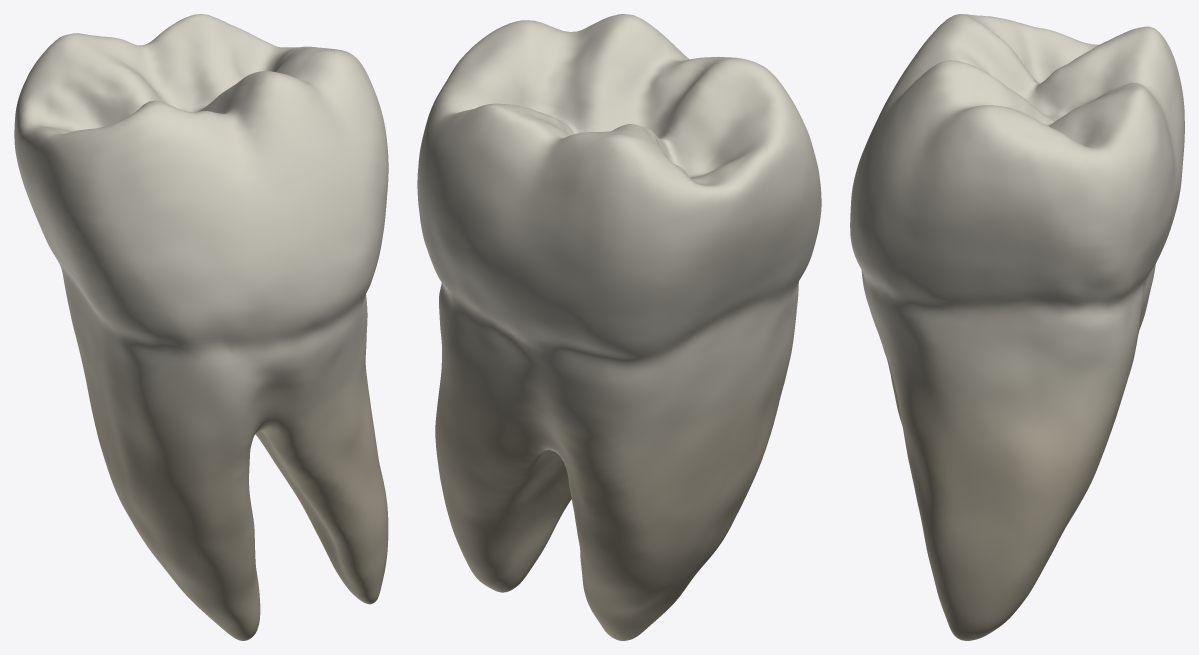
3 renders of one model, left to right at view 1: azimuth 30°, elevation 25°; view 2: azimuth 150°, elevation 25°; view 3: azimuth 270°, elevation 25°, orthographic. The views are drawn at different scales.
Parts seen in each view (by area): view 1: Tooth_36_0; view 2: Tooth_36_0; view 3: Tooth_36_0.
Boxes of the visible parts, box(x1,y1,x2,y2) form: Tooth_36_0: box(14, 14, 388, 640); Tooth_36_0: box(417, 14, 821, 640); Tooth_36_0: box(850, 14, 1184, 640).
Bounding box in the file's own units: 1.24 × 2.12 × 1.19.
